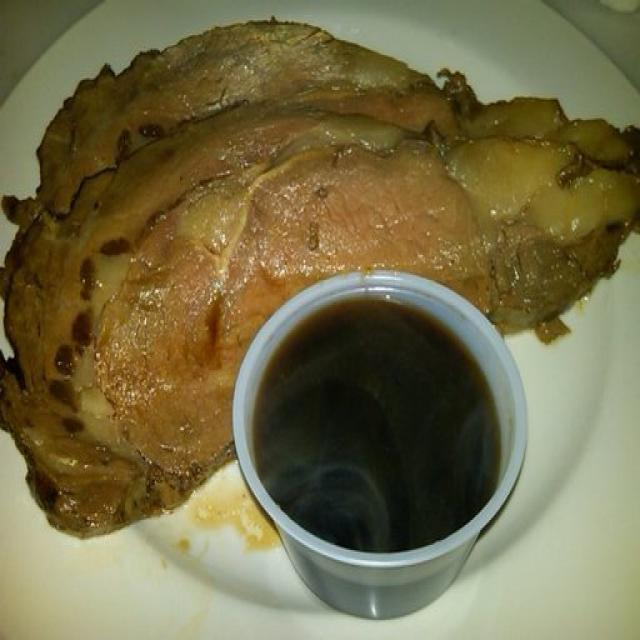rib: (1, 16, 639, 456)
